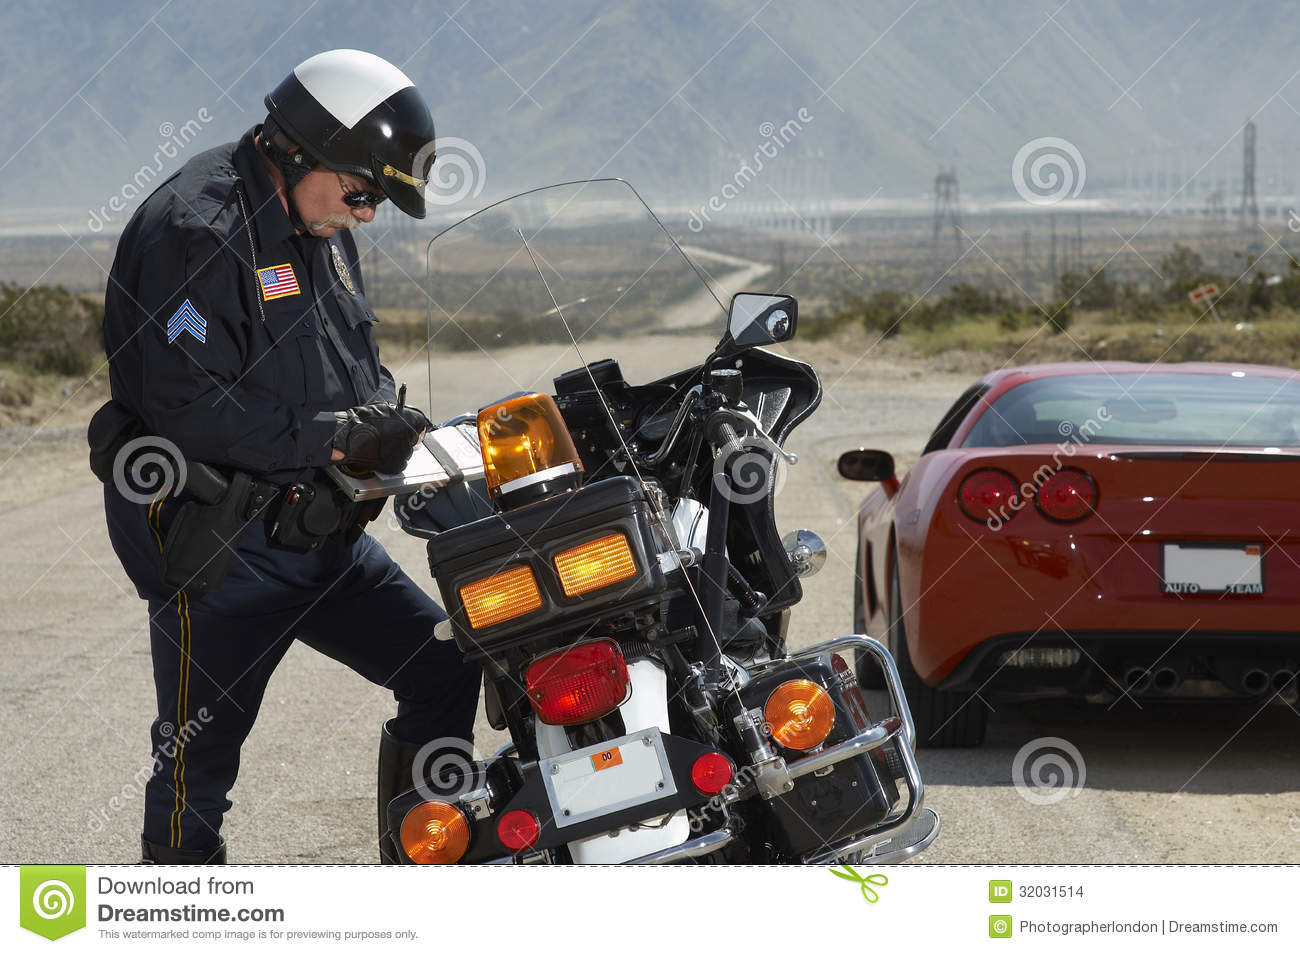helmet: (270, 50, 443, 215)
